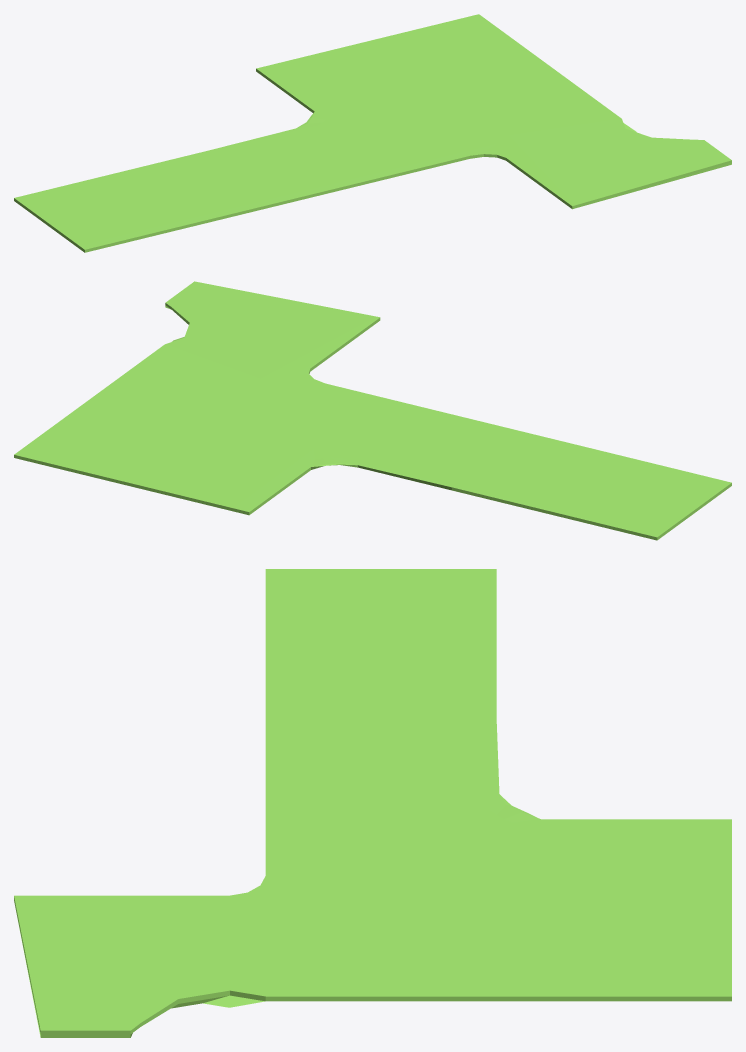
Rendered from terrain_0001_export.glb.
The picture shows the model from 3 angles, top to bottom: view 1: azimuth 30°, elevation 25°; view 2: azimuth 150°, elevation 25°; view 3: azimuth 270°, elevation 25°; orthographic projection. The views are drawn at different scales.
Parts seen in each view (by area): view 1: terrain; view 2: terrain; view 3: terrain.
Boxes of the visible parts, x1,y1,x2,y2 form: terrain: (14,14,731,252); terrain: (14,281,731,540); terrain: (14,569,731,1037).
Bounding box in the file's own units: 6014 × 54.34 × 3967.
1 material, 1 textured.
